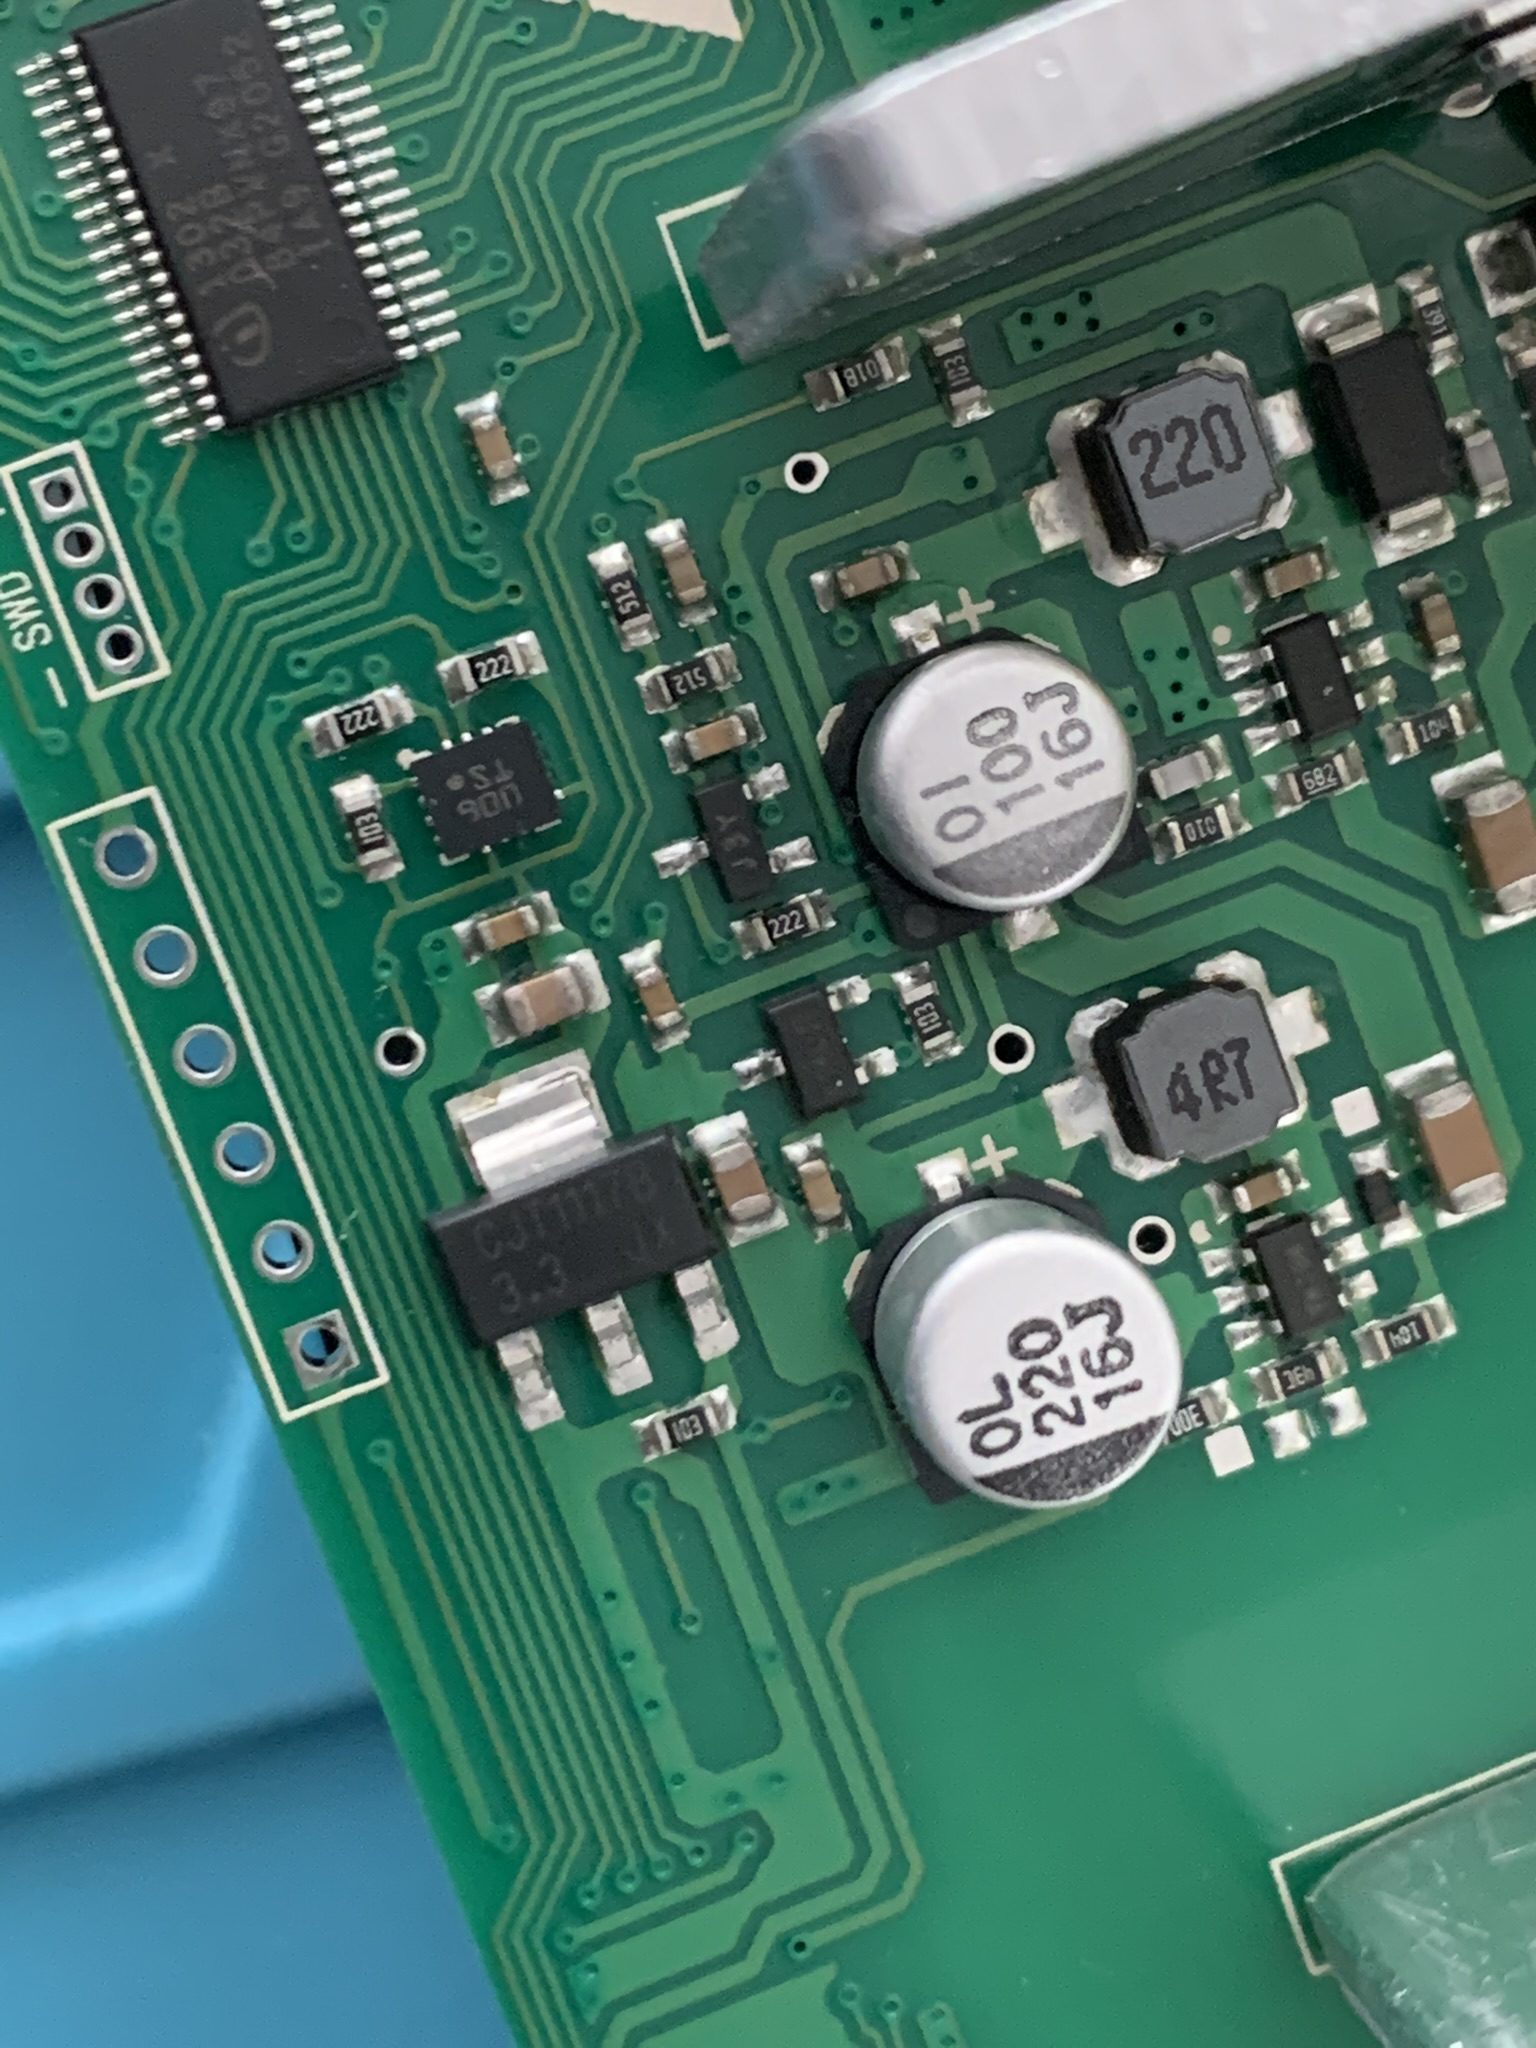capacitor_smd_el: (841, 634, 1150, 939), (871, 1193, 1170, 1506)
capacitor_smd_mlc: (1404, 1080, 1510, 1214), (1447, 776, 1536, 913), (502, 963, 586, 1037), (713, 1145, 774, 1221), (466, 414, 524, 481), (799, 1158, 852, 1226), (1263, 548, 1328, 601), (1417, 589, 1463, 660), (476, 901, 542, 951), (658, 540, 712, 601), (636, 968, 686, 1032), (837, 553, 904, 598), (1233, 1168, 1296, 1211)
diode_smd: (1304, 306, 1454, 540), (1354, 1163, 1404, 1226)
ic_smd: (44, 2, 424, 443), (424, 1111, 734, 1395), (418, 719, 565, 861), (1244, 613, 1368, 747), (676, 772, 792, 908), (1238, 1219, 1359, 1343), (758, 990, 870, 1121)
inductor: (1083, 364, 1283, 555), (1108, 985, 1297, 1163)
resistor_smd: (316, 687, 399, 755), (595, 558, 658, 635), (455, 635, 534, 697), (336, 790, 397, 868), (652, 653, 728, 706), (752, 895, 821, 953), (900, 982, 955, 1051), (829, 345, 892, 403), (1270, 1345, 1334, 1401), (1167, 805, 1234, 858), (653, 1401, 721, 1455), (1409, 287, 1459, 358), (931, 339, 984, 405), (1375, 1309, 1444, 1359), (1284, 755, 1350, 806), (1404, 703, 1467, 756), (1158, 1392, 1217, 1443)
